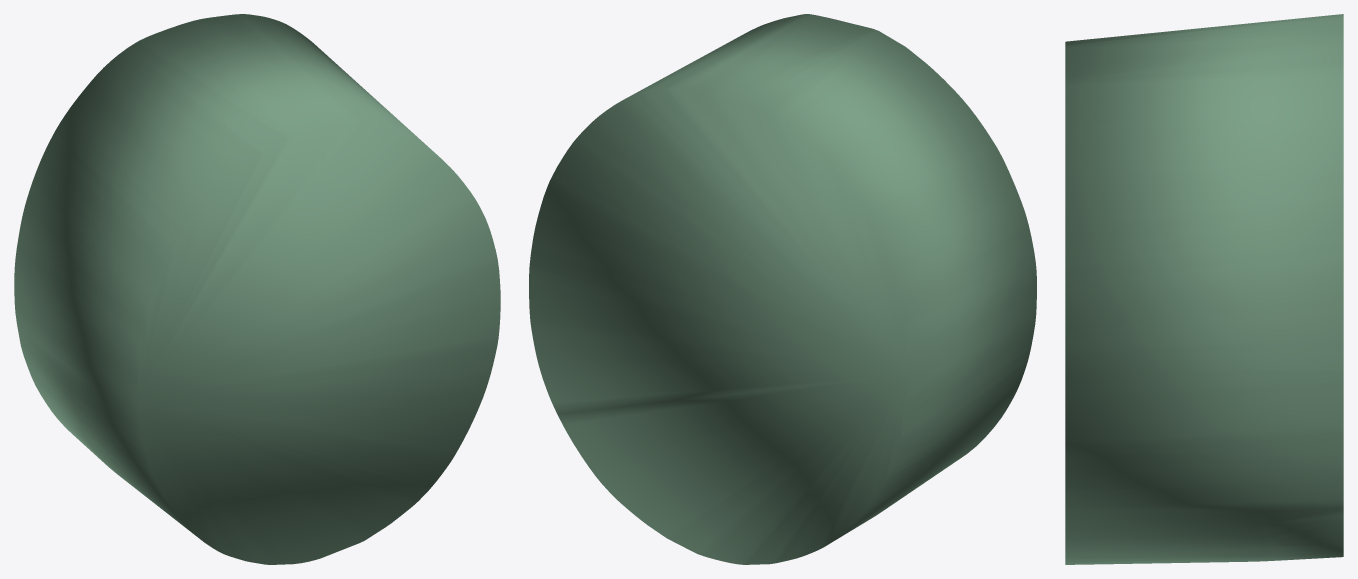
The model's file is bee_toy_1_coacd_single_link_urdf_convex_piece_0.obj.
The picture shows the model from 3 angles, left to right: view 1: azimuth 30°, elevation 25°; view 2: azimuth 150°, elevation 25°; view 3: azimuth 270°, elevation 25°; orthographic projection. The views are drawn at different scales.
Bounding box in the file's own units: 0.1697 × 0.2003 × 0.0997.
